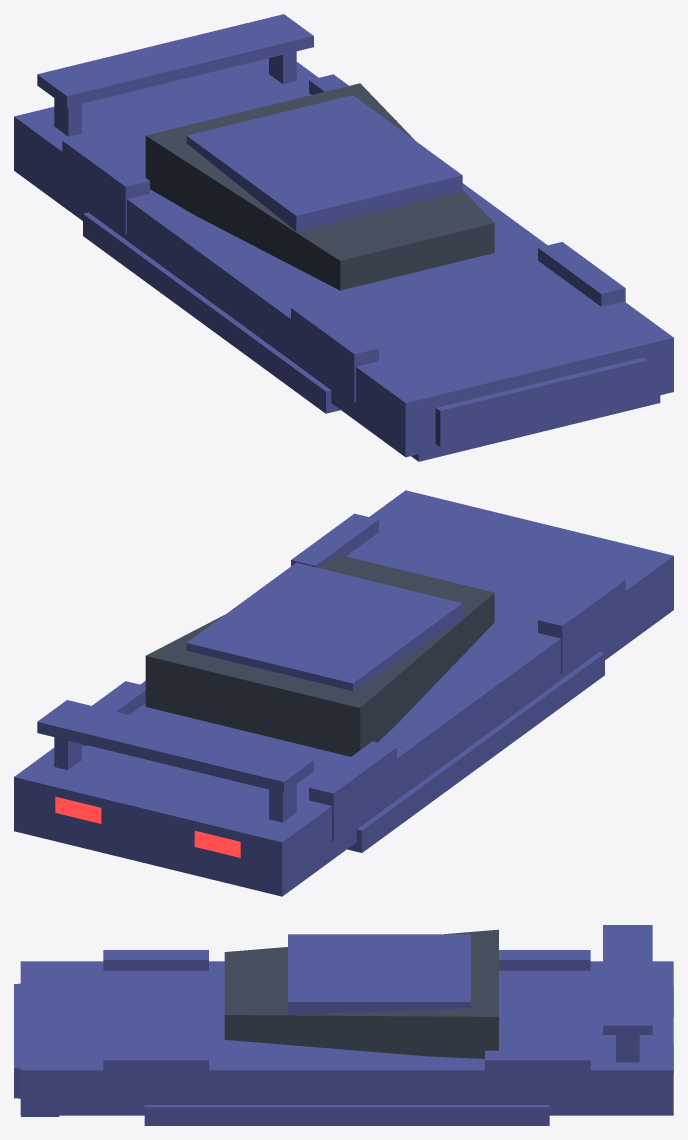
Rendered from car_phantom.glb.
3 views of the same model, one above another, from view 1: azimuth 30°, elevation 25°; view 2: azimuth 150°, elevation 25°; view 3: azimuth 270°, elevation 25° (orthographic). The views are drawn at different scales.
Parts seen in each view (by area): view 1: Mesh; view 2: Mesh; view 3: Mesh.
Part boxes in pixels (x1,y1,x2,y2): Mesh: (14, 14, 673, 461); Mesh: (14, 490, 673, 896); Mesh: (14, 925, 673, 1125).
Bounding box in the file's own units: 1.83 × 0.76 × 4.5.
